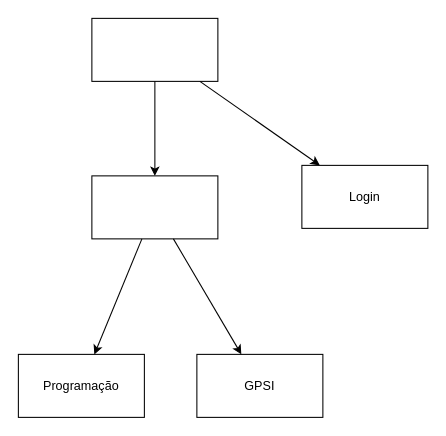
The diagram is 446 pixels wide and 436 high, and some of its shapes have lost their labels. The shapes that lost their labels are listed below. From the top down, each one's centre as x and y in pixels, then its label:
At point 154,49: "Pagina Base".
At point 154,207: "Disciplinas".
